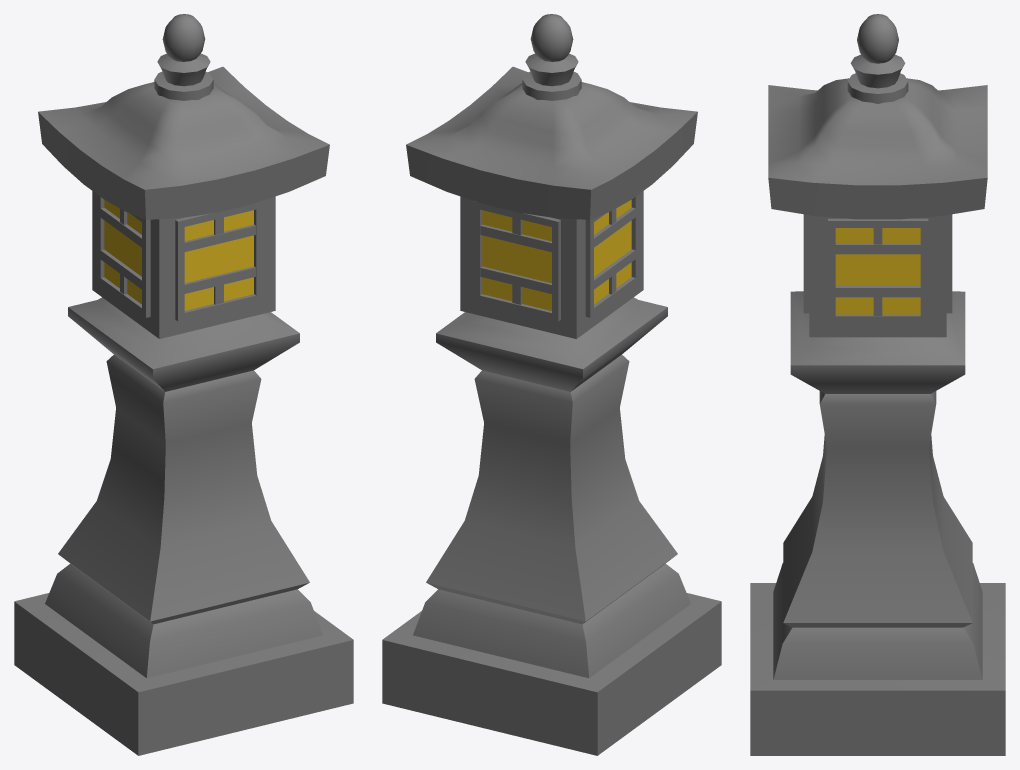
The model's file is SM_stonelantern_03.fbx.
3 views of the same model, side by side, from view 1: azimuth 30°, elevation 25°; view 2: azimuth 150°, elevation 25°; view 3: azimuth 270°, elevation 25° (orthographic). The views are drawn at different scales.
Parts seen in each view (by area): view 1: Box343; view 2: Box343; view 3: Box343.
Boxes of the visible parts, <box> form: Box343: <box>14,14,353,755</box>; Box343: <box>382,14,721,755</box>; Box343: <box>750,14,1005,755</box>.
Bounding box in the file's own units: 19.34 × 57.42 × 19.34.
